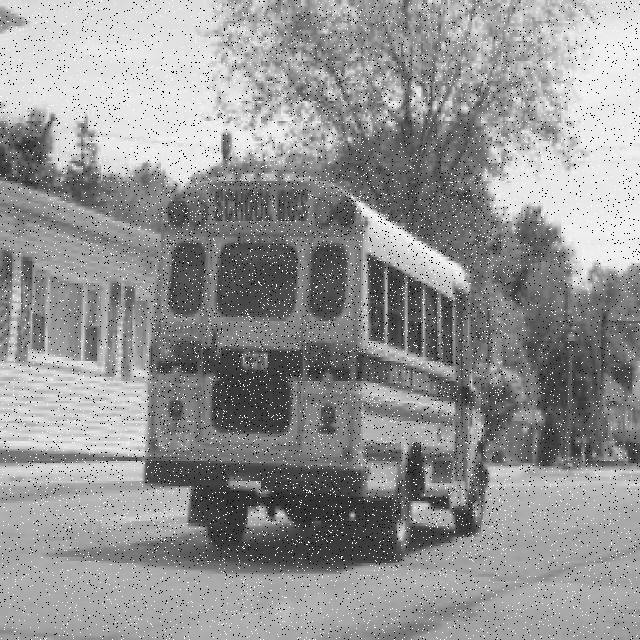Bus- Small: (145, 171, 507, 561)
